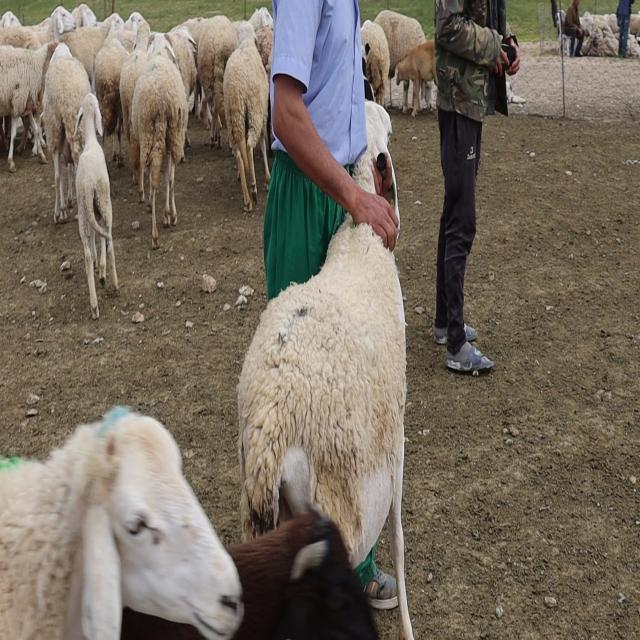Score_2: (237, 220, 413, 639)
